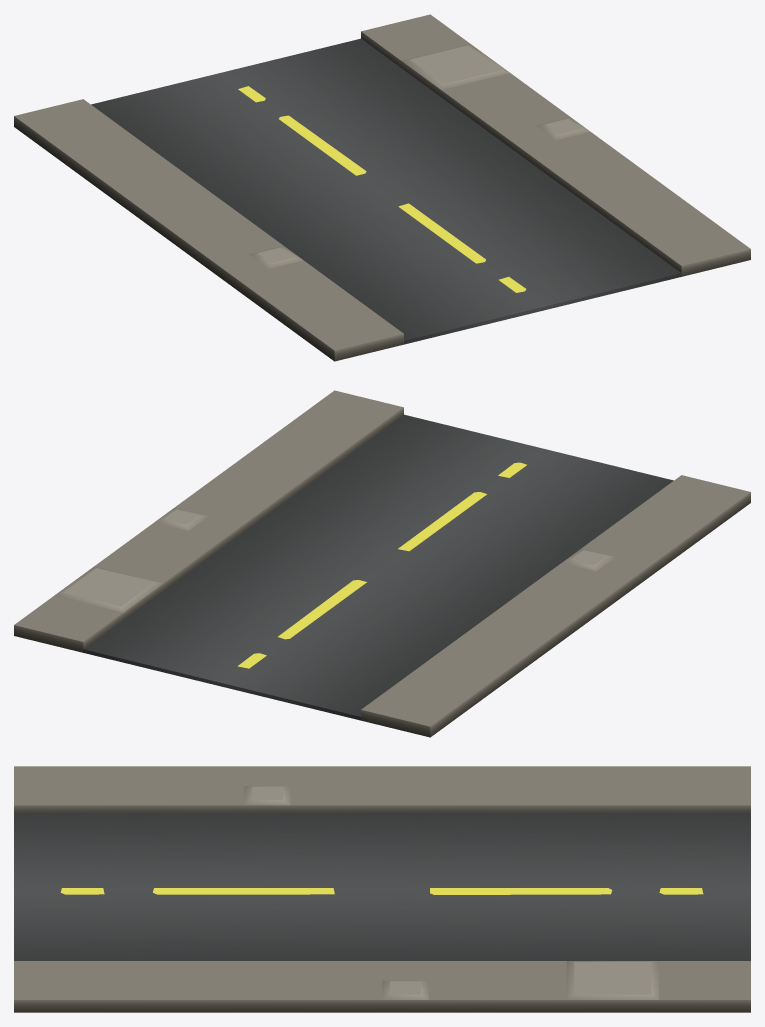
The model's file is Road_1A_+4.fbx.
3 views of the same model, one above another, from view 1: azimuth 30°, elevation 25°; view 2: azimuth 150°, elevation 25°; view 3: azimuth 270°, elevation 25° (orthographic). The views are drawn at different scales.
Visible parts, largest first — view 1: Road_1A_+4; view 2: Road_1A_+4; view 3: Road_1A_+4.
Part boxes in pixels (x1=…): Road_1A_+4: x1=14, y1=14, x2=750, y2=361; Road_1A_+4: x1=14, y1=390, x2=750, y2=737; Road_1A_+4: x1=14, y1=766, x2=750, y2=1012.
Bounding box in the file's own units: 12 × 0.3565 × 16.
